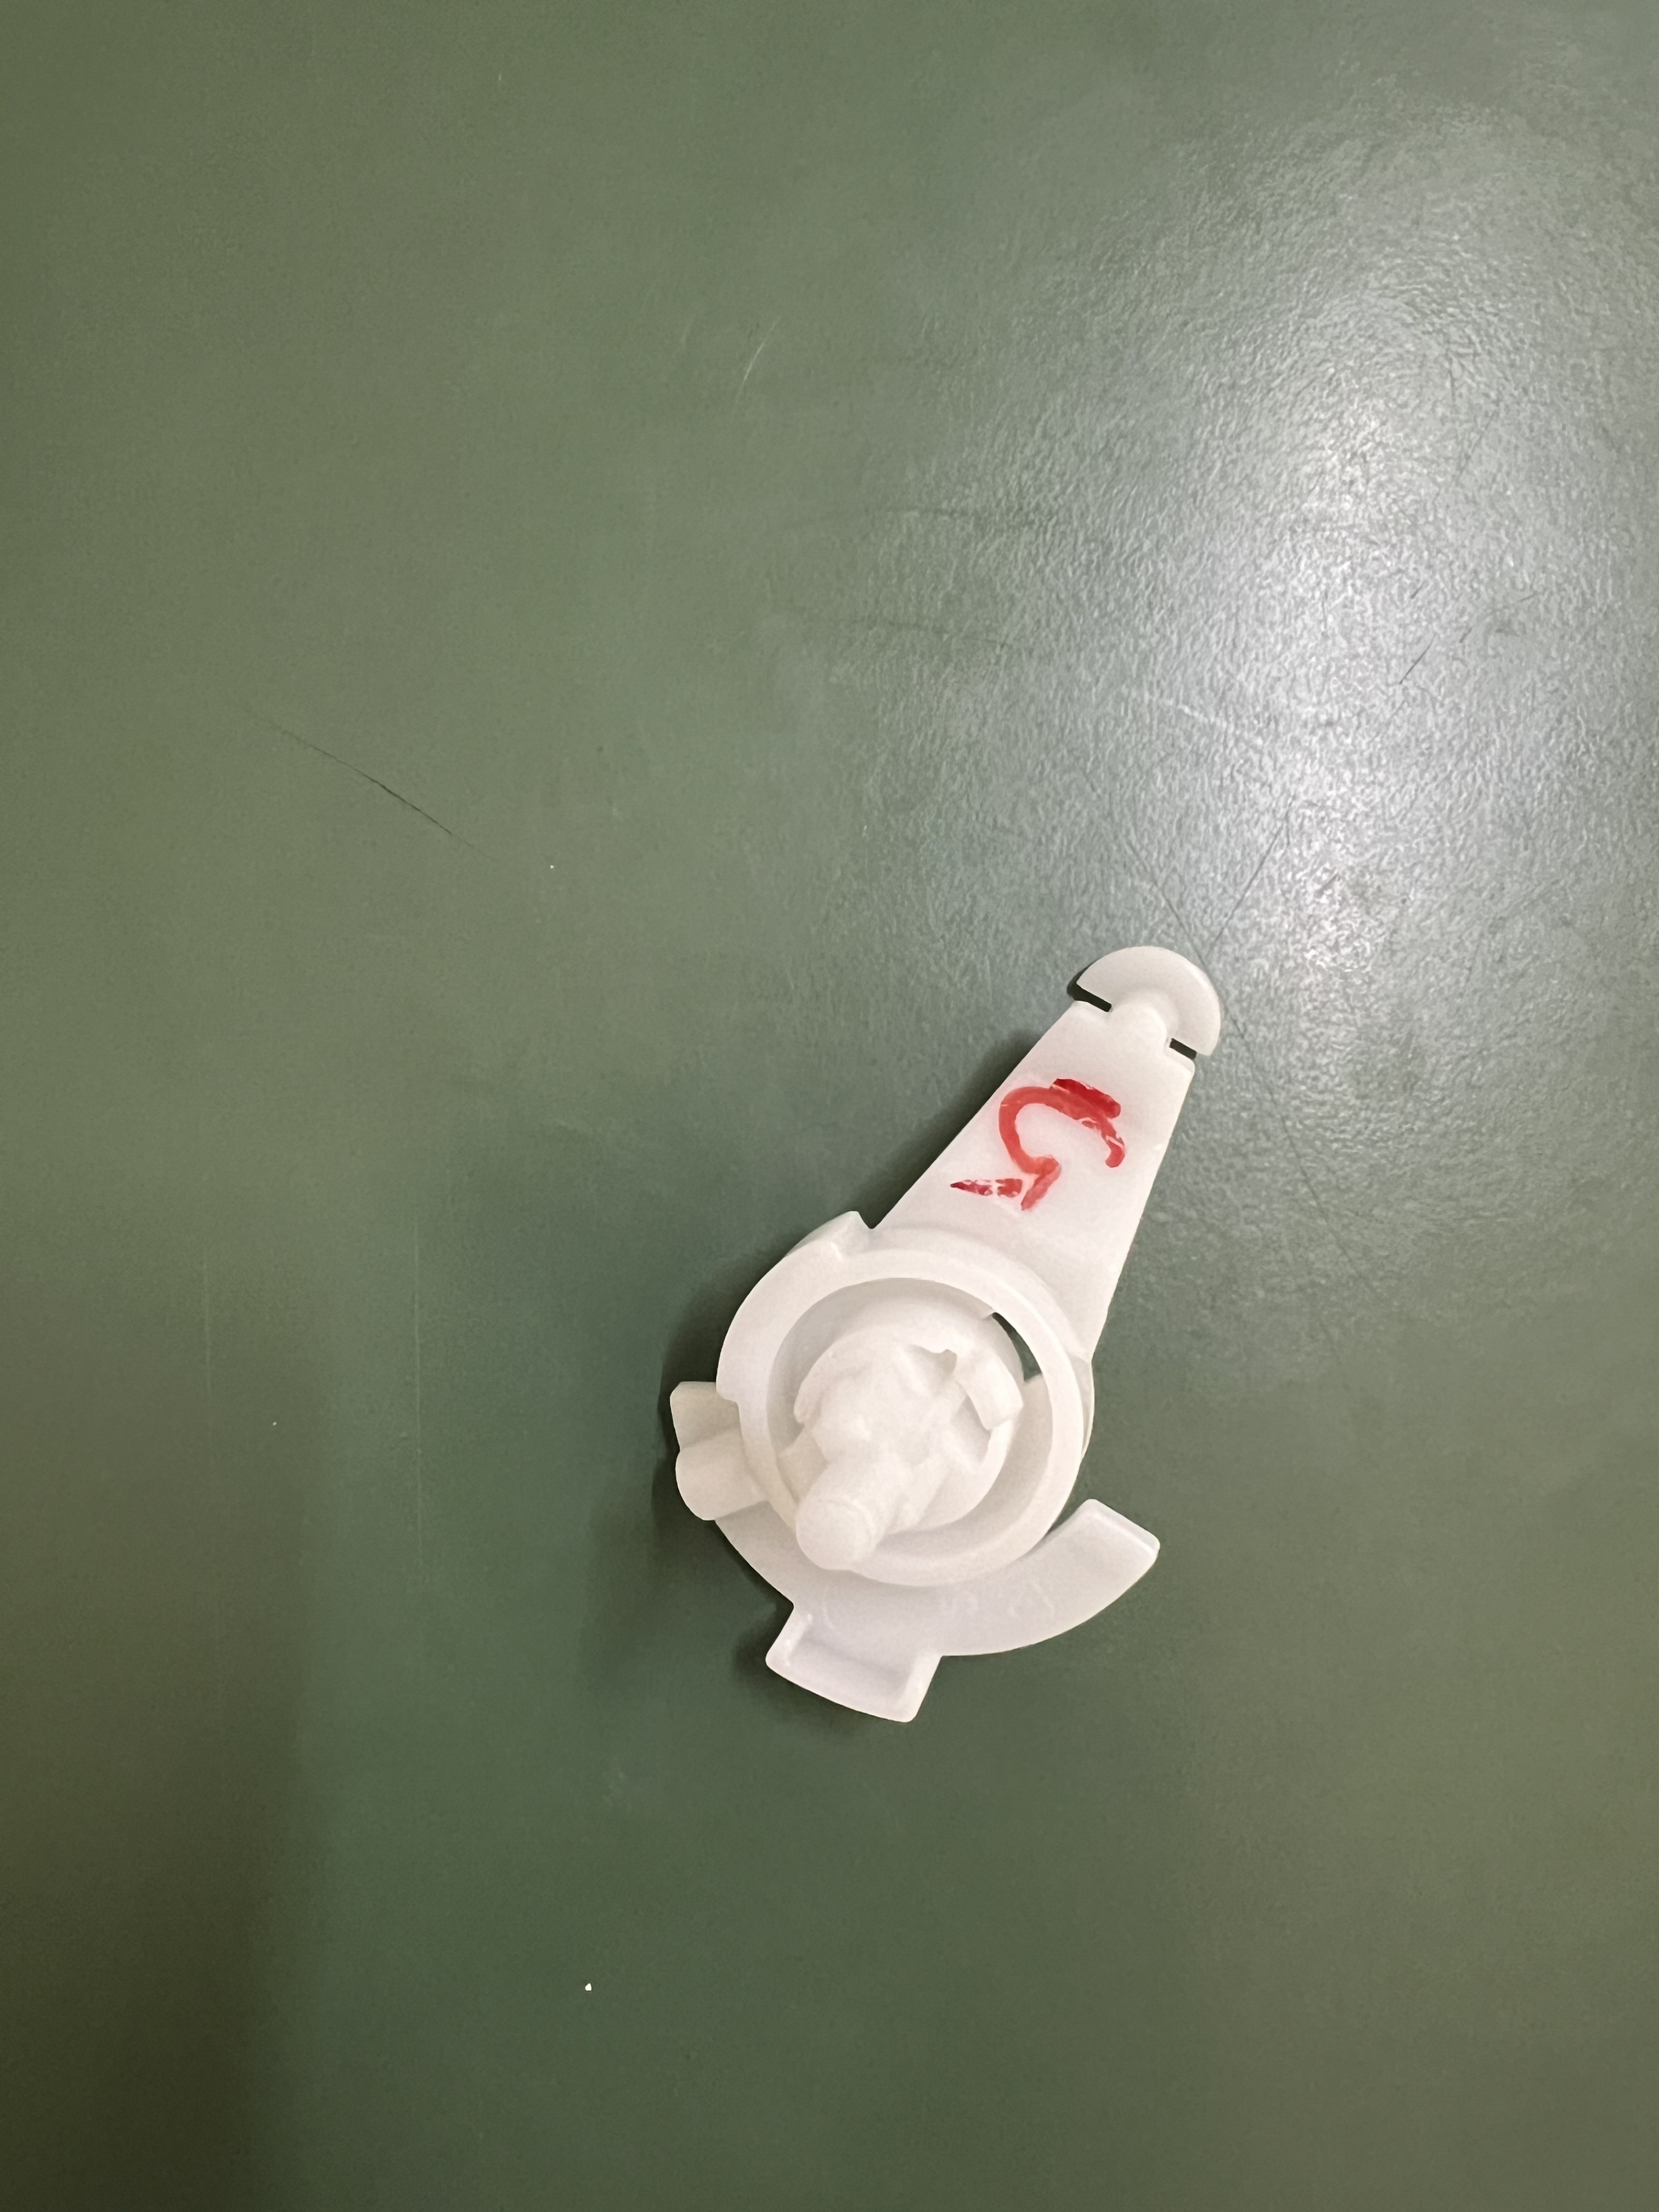drain_lever: (587, 911, 1229, 1733)
